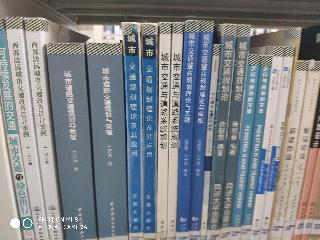book-spine: (47, 41, 97, 240), (6, 16, 48, 240), (25, 17, 62, 240), (87, 42, 128, 240), (0, 19, 35, 240), (257, 47, 295, 240), (280, 61, 320, 240), (270, 61, 309, 240), (268, 27, 302, 231), (218, 24, 250, 240), (248, 46, 283, 239), (206, 23, 236, 240), (240, 57, 272, 240), (229, 55, 259, 239), (188, 21, 213, 240), (175, 21, 199, 240), (123, 23, 143, 240), (198, 45, 220, 240), (166, 23, 182, 240), (155, 24, 171, 239), (142, 24, 157, 239)
